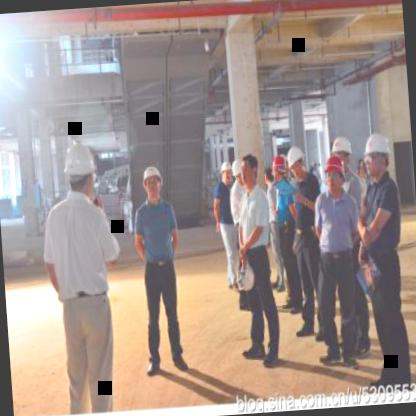head: (238, 150, 262, 192)
helmet: (62, 140, 102, 208), (360, 128, 396, 186), (138, 160, 167, 204), (322, 153, 349, 196), (331, 130, 354, 174), (284, 140, 308, 182), (269, 152, 287, 182), (231, 155, 244, 188), (218, 158, 232, 186)
